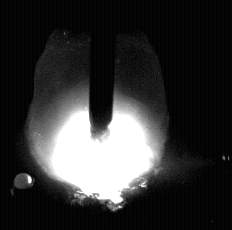arame: (90, 0, 114, 139)
poca: (26, 0, 168, 230)
